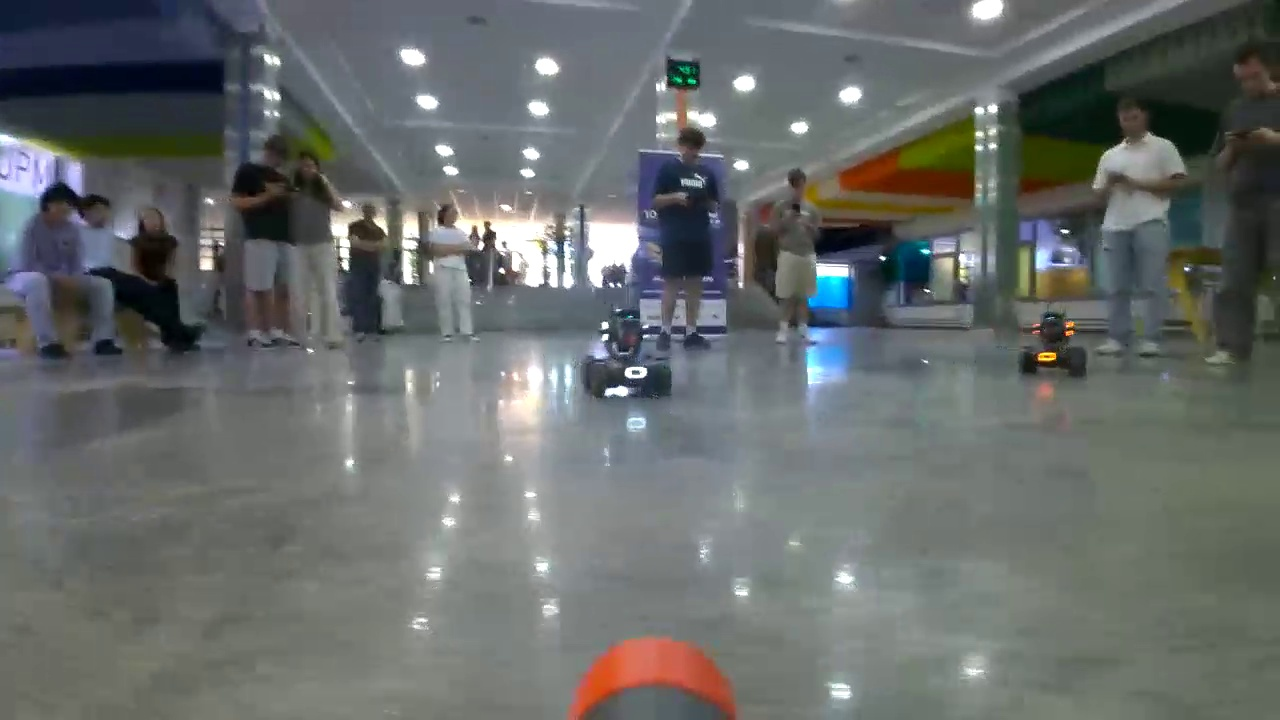robot: (585, 308, 667, 397), (1020, 310, 1087, 377)
